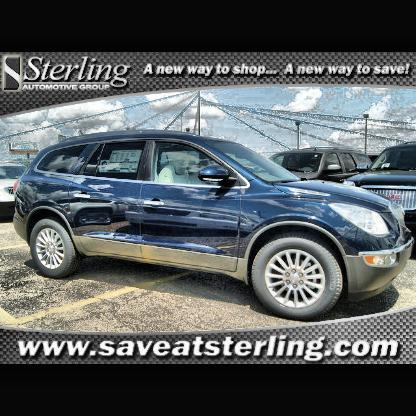Buick Enclave SUV 2012: (13, 131, 416, 321)
